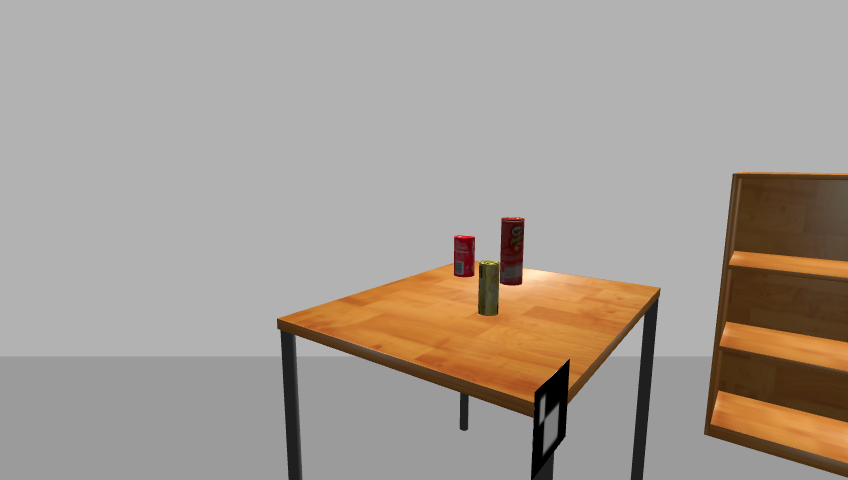aruco marker: (529, 360, 573, 480)
biscuits pack: (478, 261, 500, 317)
bookshelf: (700, 172, 848, 480)
coke can: (452, 235, 476, 278)
dinner table: (269, 262, 669, 480)
pringles can: (499, 216, 526, 288)
